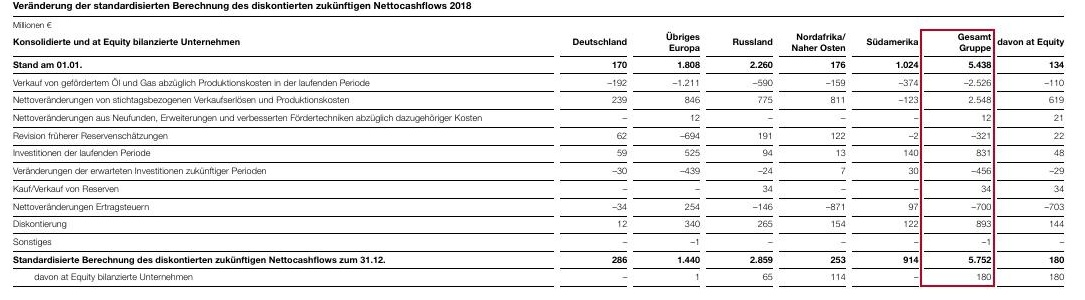table: (0, 0, 1085, 300)
